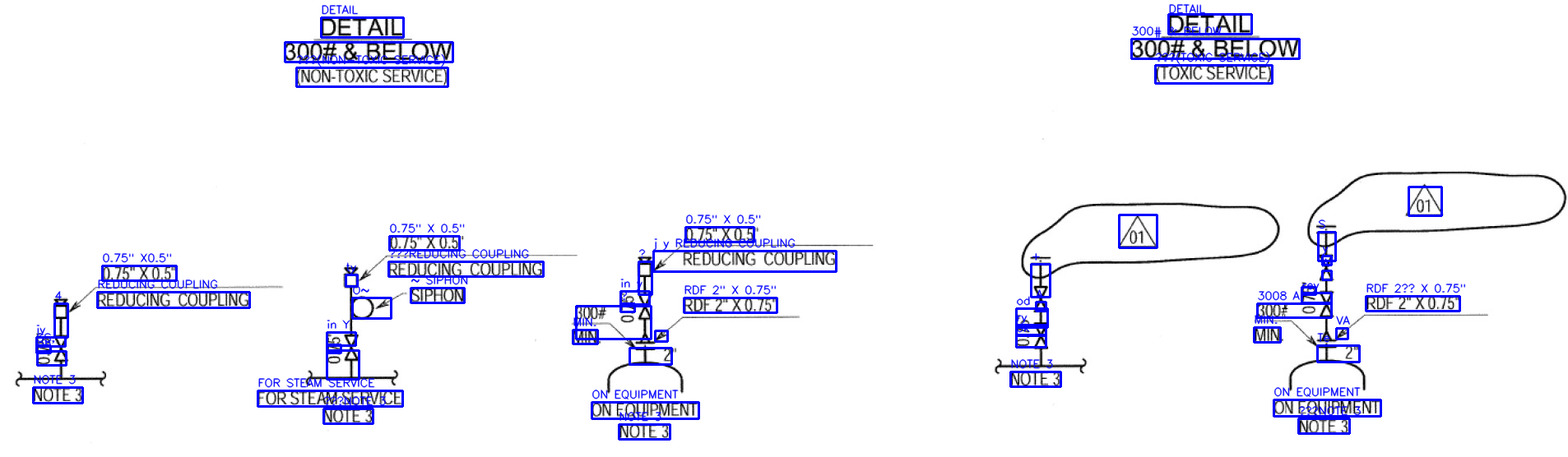Válvula: (1315, 251, 1336, 284), (51, 331, 70, 366), (342, 331, 360, 363), (1032, 283, 1049, 316), (1318, 288, 1335, 321), (638, 288, 653, 324), (1033, 320, 1050, 350)
